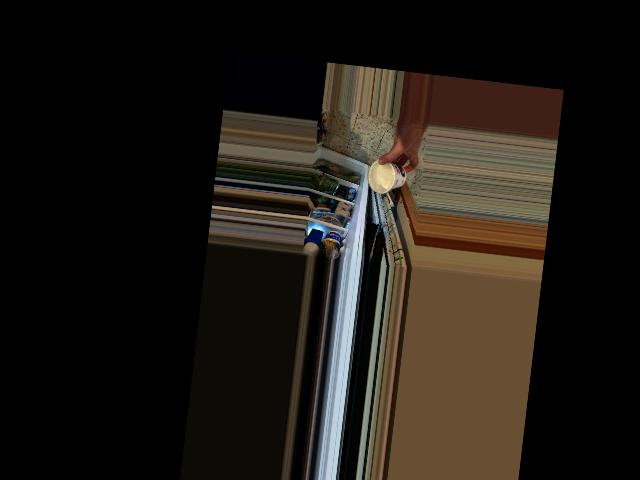cotage: (367, 157, 408, 195)
